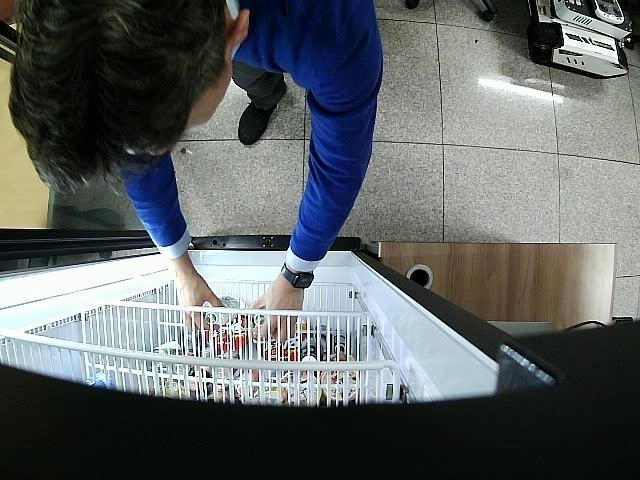18_trevi: (205, 298, 240, 326), (251, 308, 268, 328)
